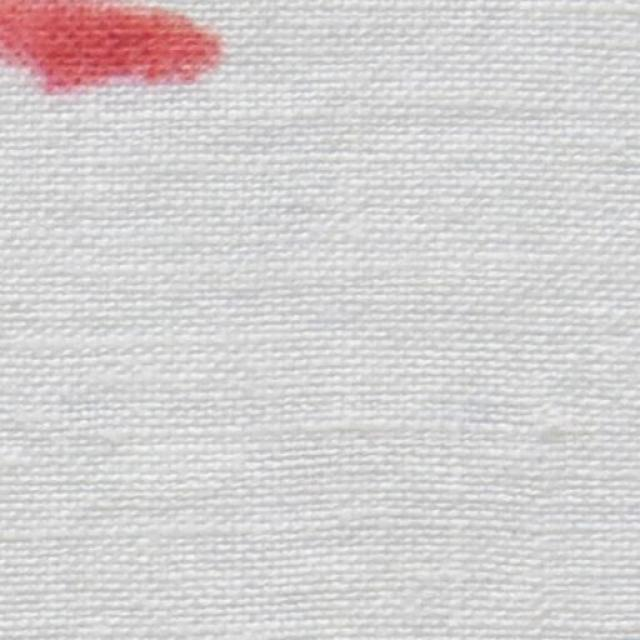Stain: (0, 0, 220, 92)
